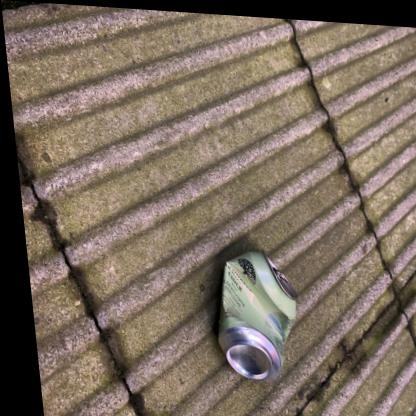trash: (219, 252, 295, 379)
